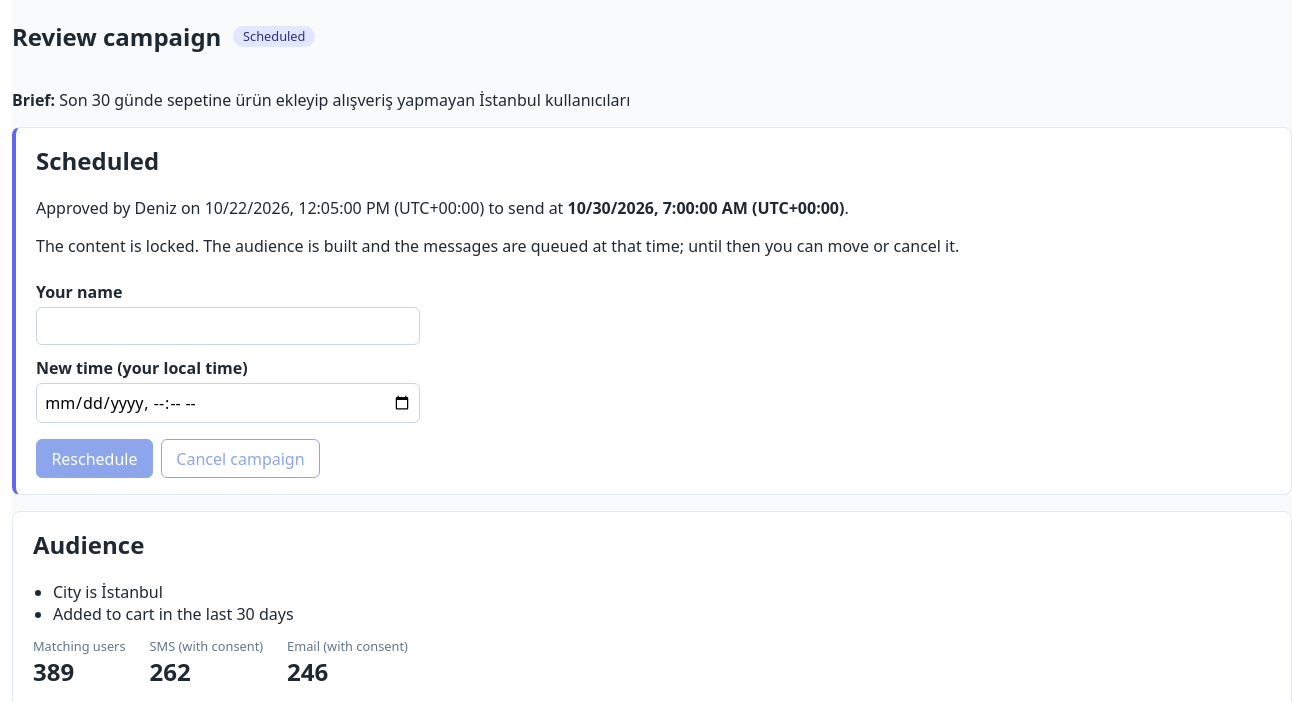
it: CampaignReviewView scheduling › reports a cancel that lost the race with the release
Type "Ece" into the field labelled "Your name" at (228, 326), box [36,307,420,345]
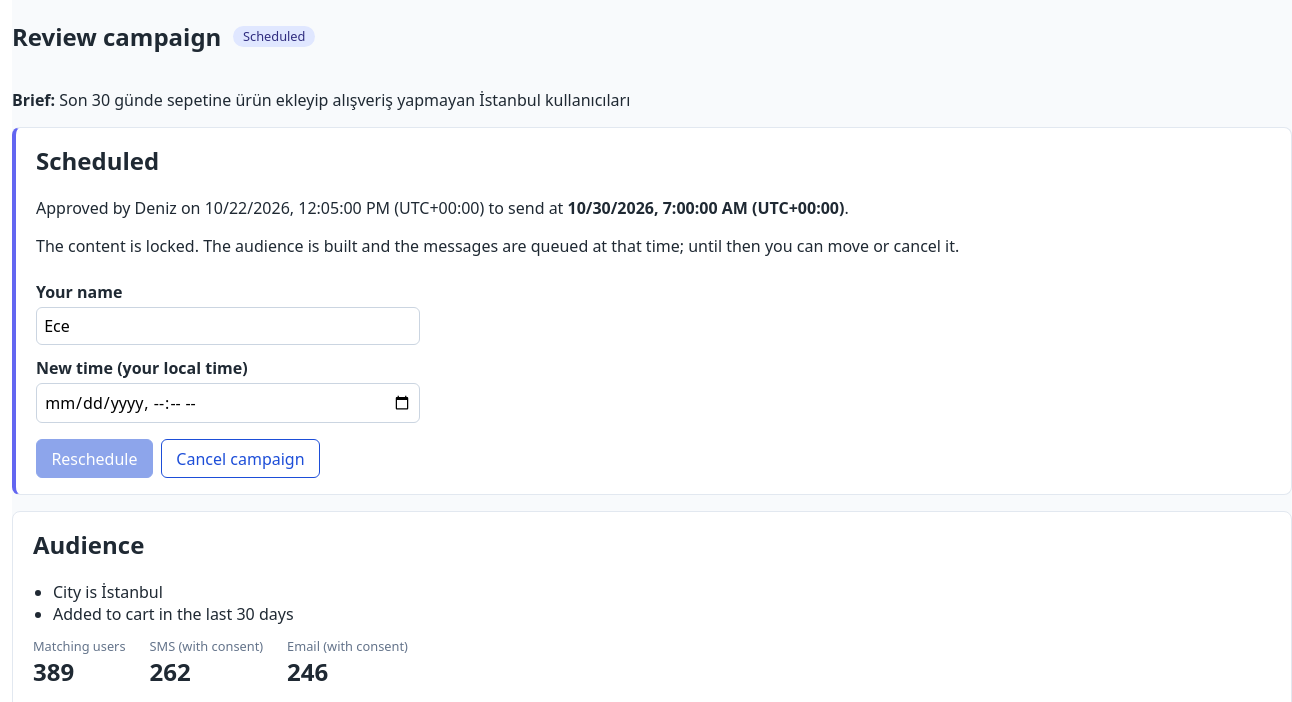
Click the button with test id "cancel-schedule" at (240, 459), box [161,440,320,478]
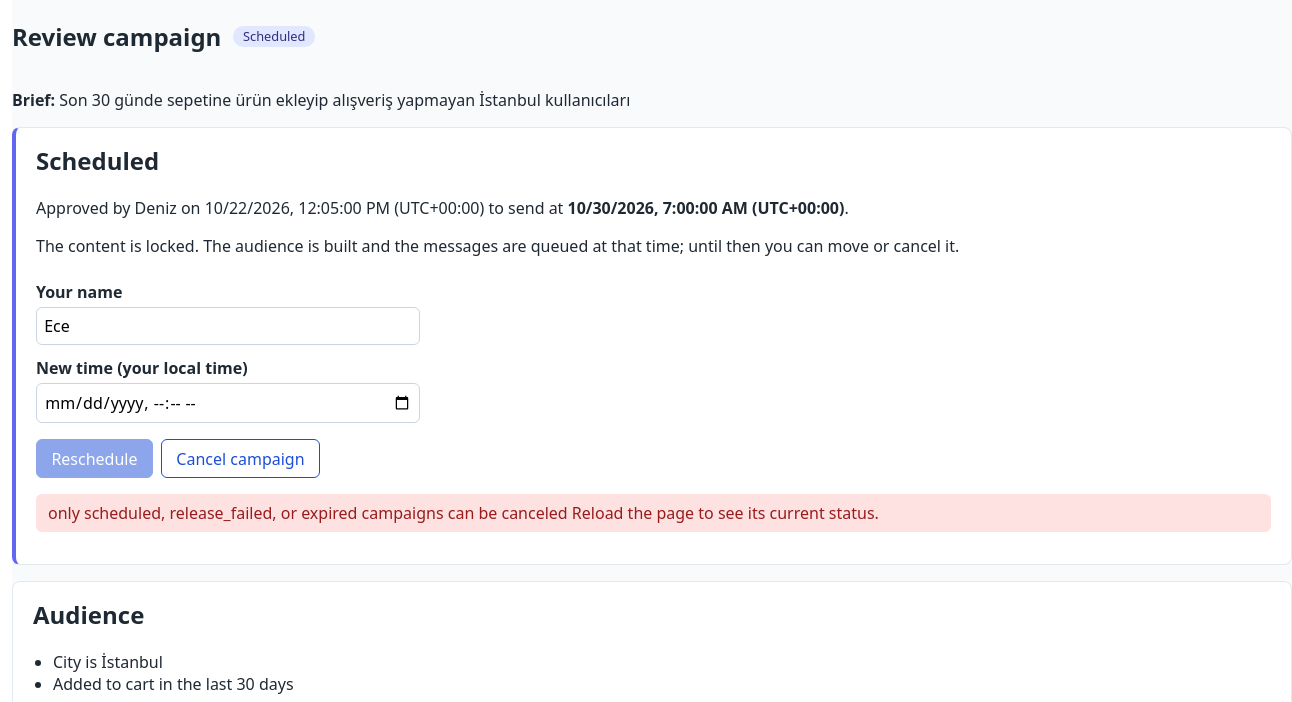
Now the message with test id "schedule-error" shows "can be canceled", box [48,502,879,524]
Now the message with test id "schedule-error" shows "Reload", box [48,502,879,524]
